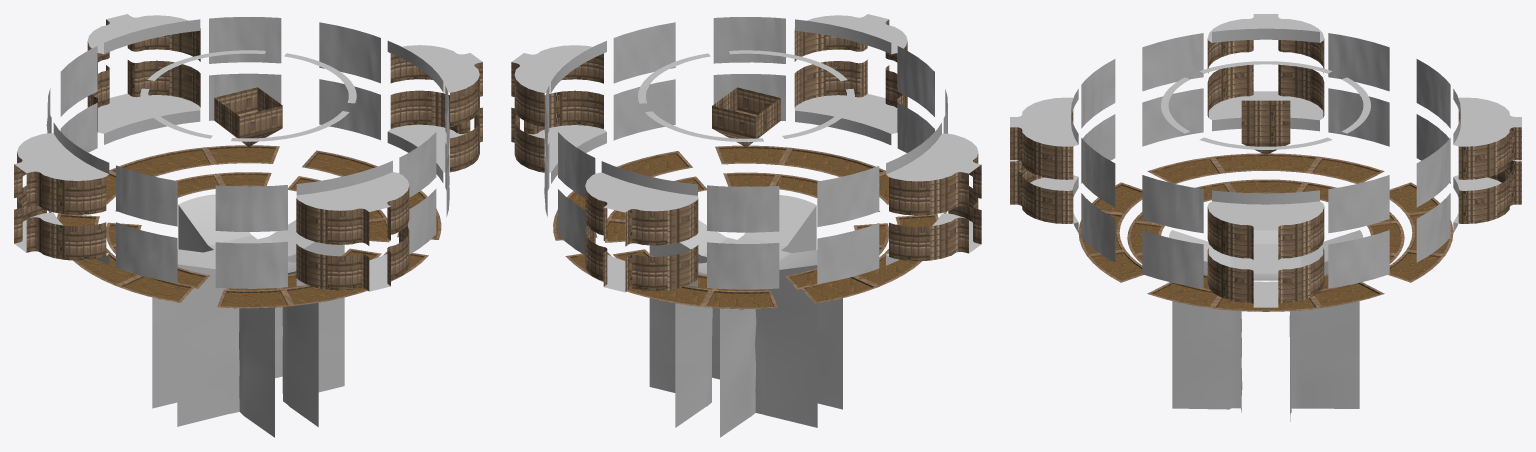
File: lowerother.fbx
3 views of the same model, side by side, from view 1: azimuth 30°, elevation 25°; view 2: azimuth 150°, elevation 25°; view 3: azimuth 270°, elevation 25° (orthographic). The views are drawn at different scales.
Visible parts, largest first — view 1: lowerother; view 2: lowerother; view 3: lowerother.
Part boxes in pixels (x1,y1,x2,y2): lowerother: (14,14,482,437); lowerother: (511,14,981,437); lowerother: (1010,14,1521,421).
Size of the model in its own units: 4200 by 2658 by 4200.
